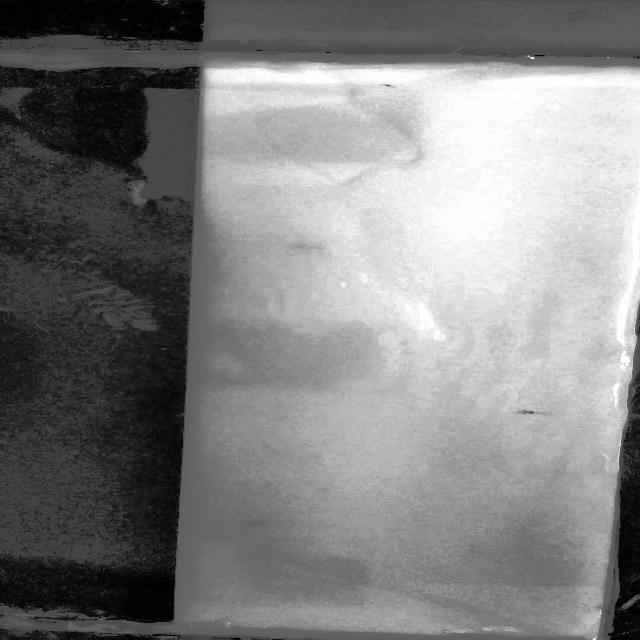shrimp: (232, 516, 282, 532), (507, 404, 548, 419), (375, 79, 399, 94)
